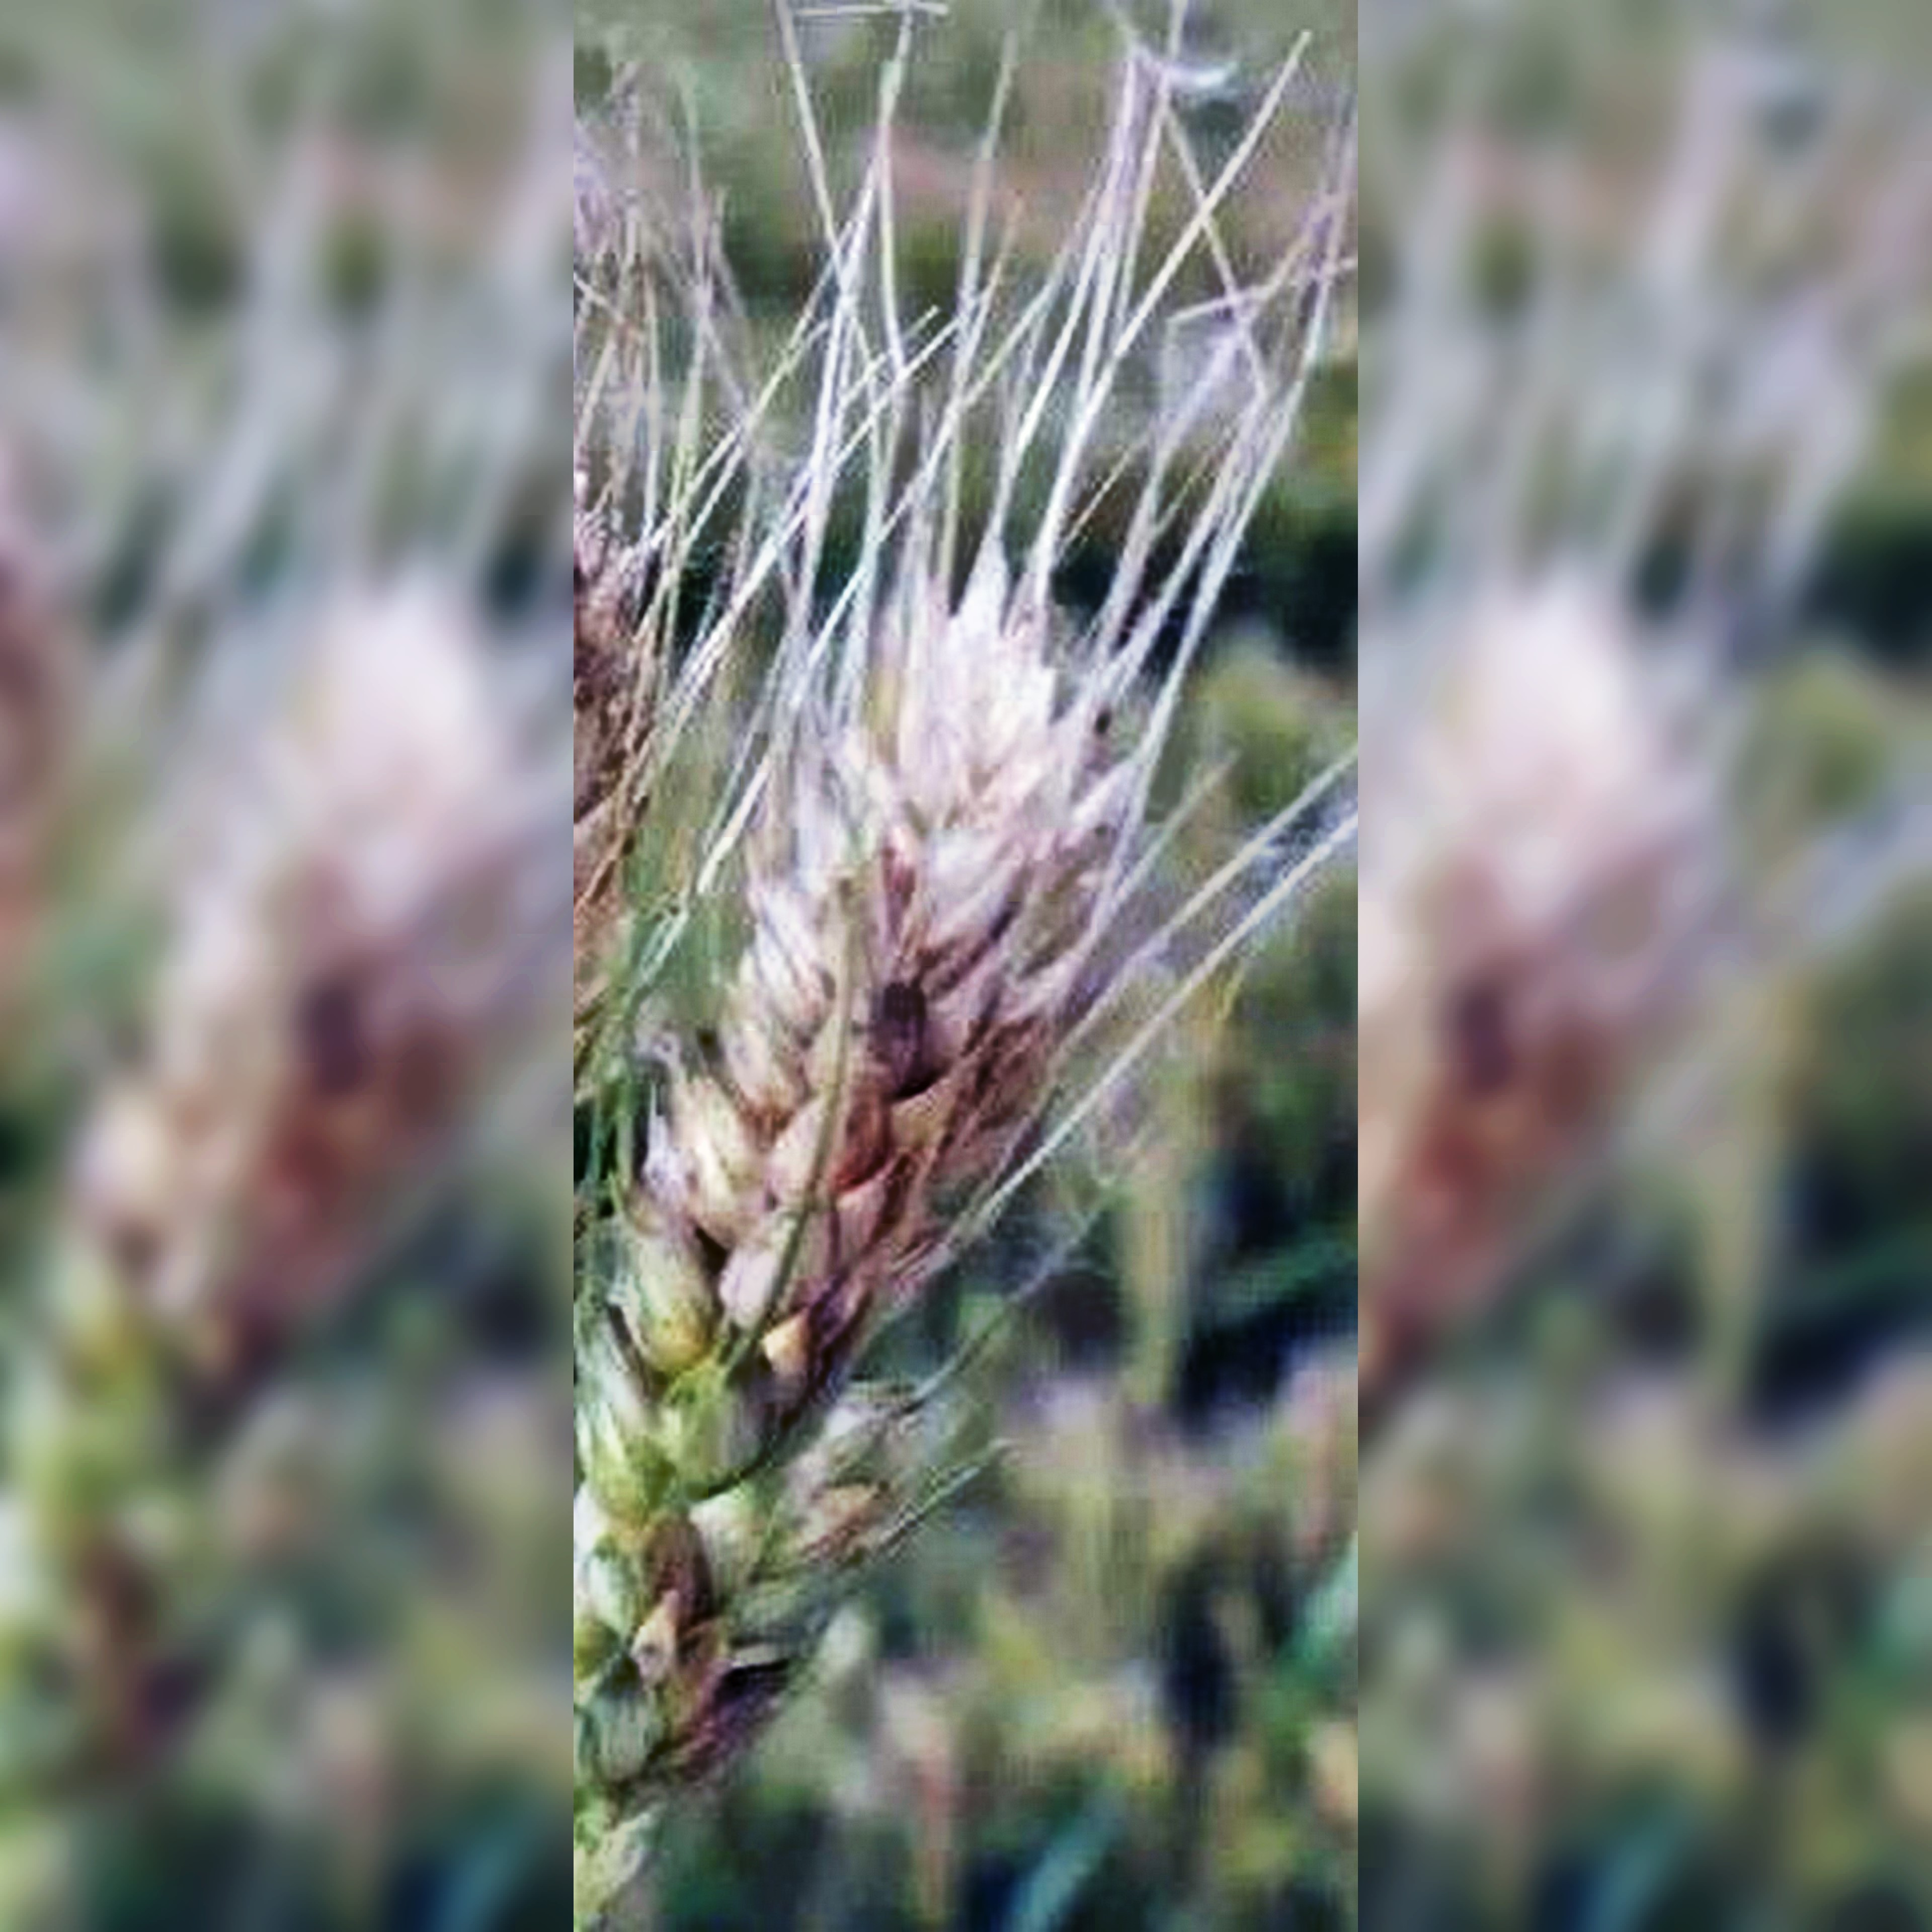Wheat scab: (623, 511, 1212, 1813)
